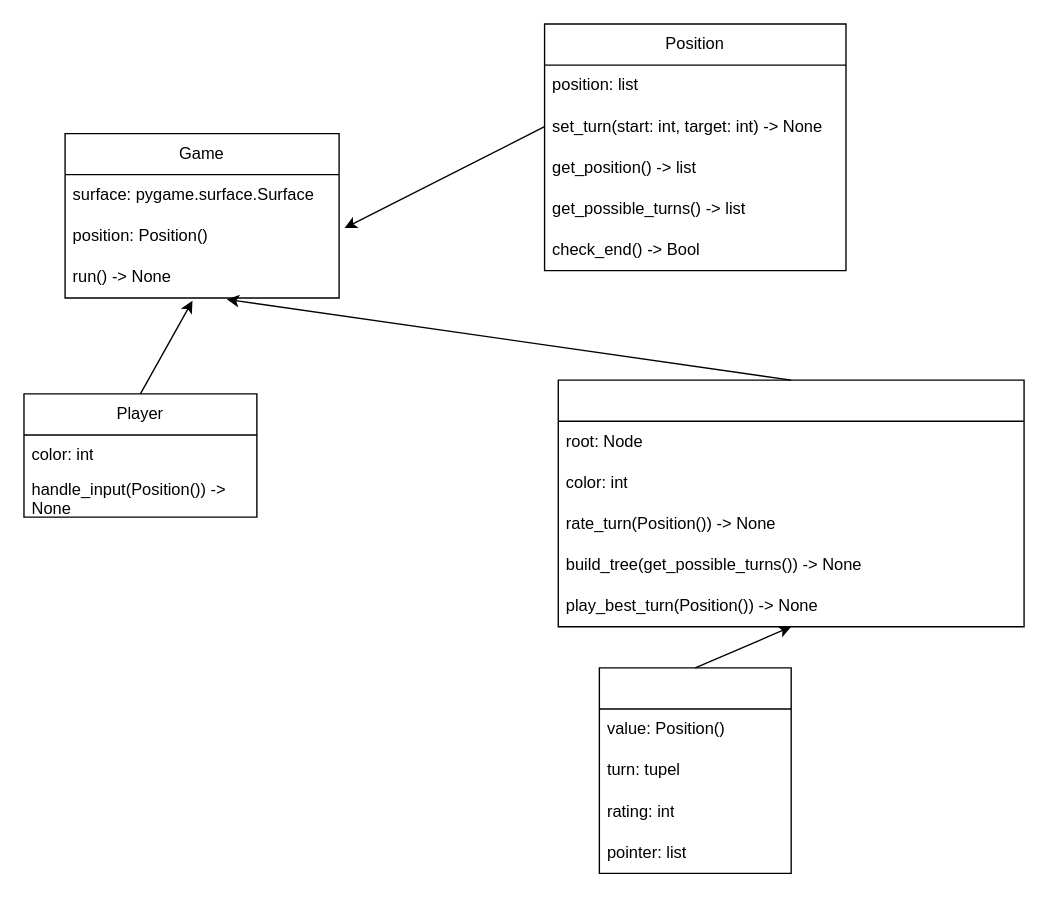
This 1048x897 diagram has some shape labels left out. Each missing label, with the box of its shape:
AI: (557, 379, 1024, 627)
Node: (598, 667, 791, 873)
